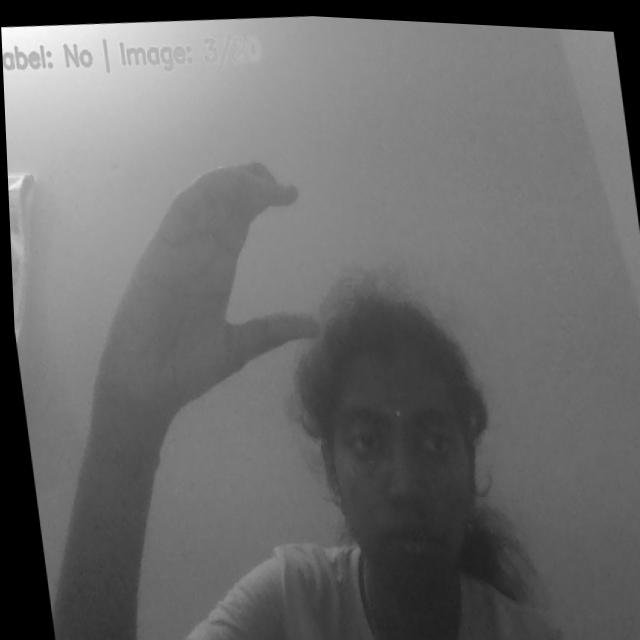No: (81, 145, 331, 426)
